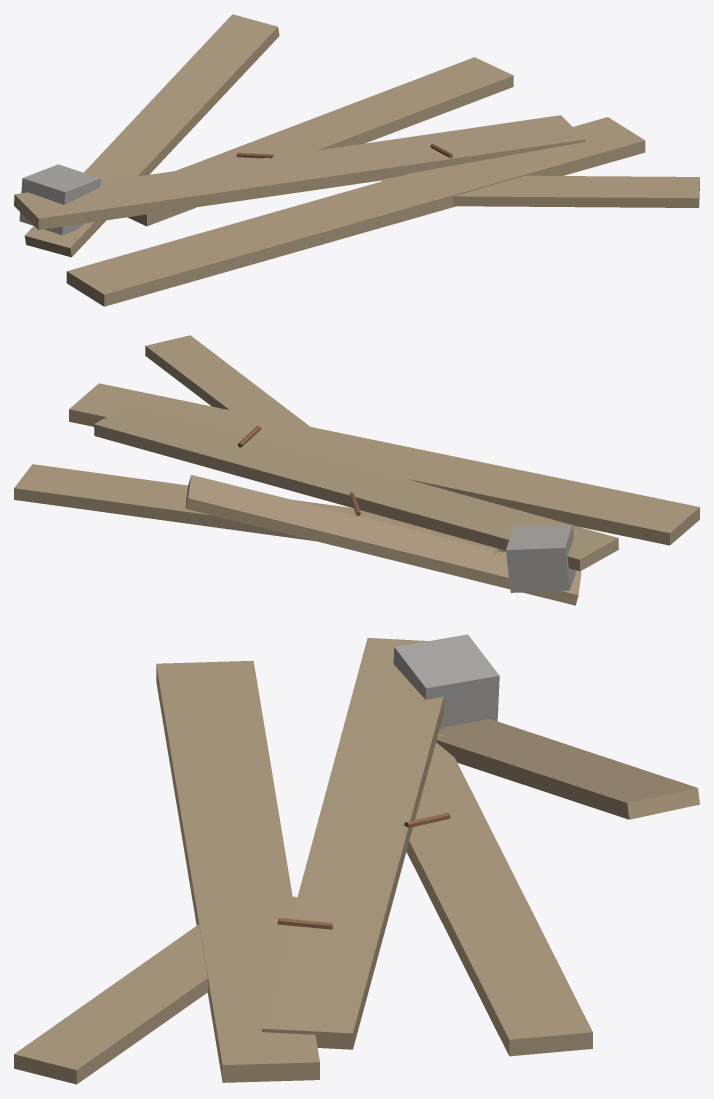
Rendered from Dress_PlanksFallen.fbx.
3 views of the same model, one above another, from view 1: azimuth 30°, elevation 25°; view 2: azimuth 150°, elevation 25°; view 3: azimuth 270°, elevation 25° (orthographic). The views are drawn at different scales.
Visible parts, largest first — view 1: Dress_PlanksFallen; view 2: Dress_PlanksFallen; view 3: Dress_PlanksFallen.
Part boxes in pixels (left/top/right/bottom): Dress_PlanksFallen: left=14, top=14, right=699, bottom=306; Dress_PlanksFallen: left=14, top=335, right=699, bottom=605; Dress_PlanksFallen: left=14, top=634, right=699, bottom=1084.
Size of the model in its own units: 158 by 25.46 by 112.
